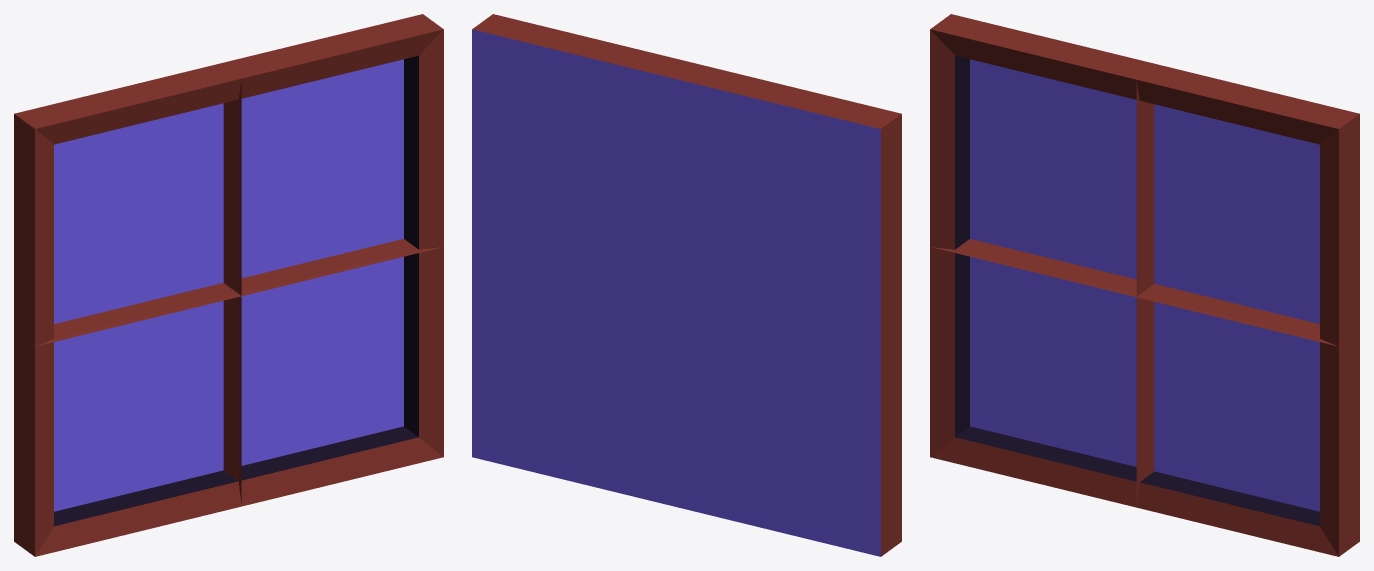
Rendered from window.dae.
3 views of the same model, side by side, from view 1: azimuth 30°, elevation 25°; view 2: azimuth 150°, elevation 25°; view 3: azimuth 330°, elevation 25° (orthographic).
Parts seen in each view (by area): view 1: window; view 2: window; view 3: window.
Boxes of the visible parts, <box> form: window: <box>14,14,443,556</box>; window: <box>472,14,901,556</box>; window: <box>930,14,1359,556</box>.
Bounding box in the file's own units: 1.19 × 0.1056 × 1.19.
Materials: 1 (1 with a texture image).
